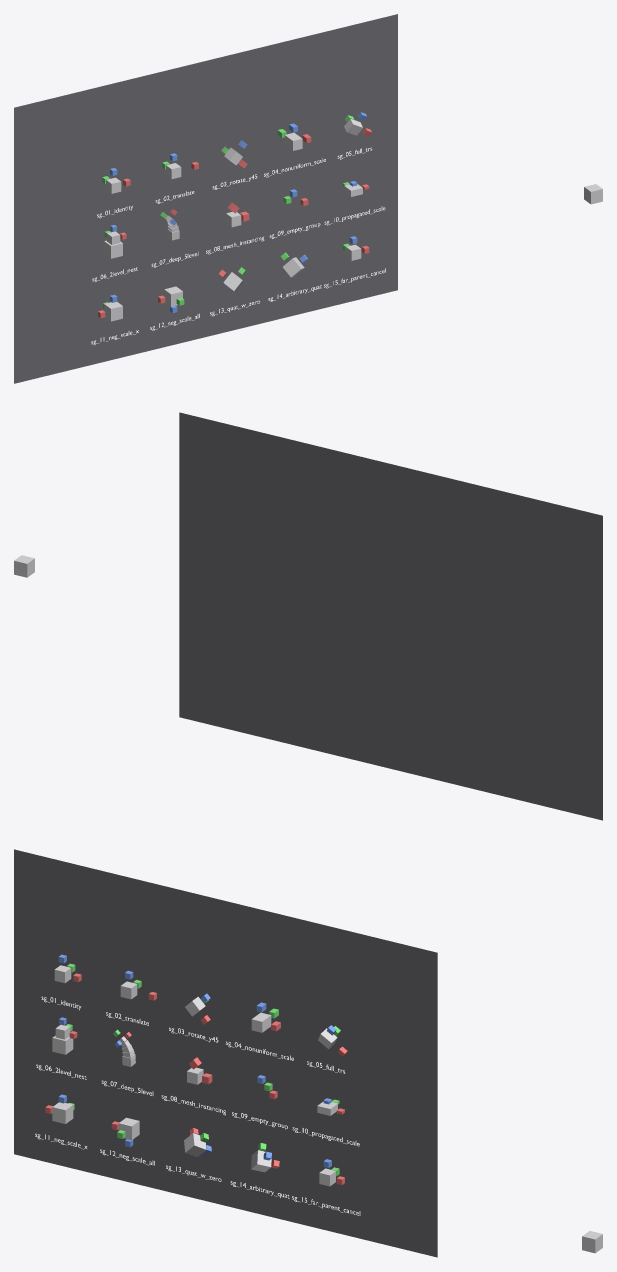
Rendered from grid_scenegraph.glb.
3 renders of one model, top to bottom at view 1: azimuth 30°, elevation 25°; view 2: azimuth 150°, elevation 25°; view 3: azimuth 330°, elevation 25°, orthographic. The views are drawn at different scales.
Visible parts, largest first — view 1: backdrop_scenegraph; view 2: backdrop_scenegraph; view 3: backdrop_scenegraph.
Boxes of the visible parts, bbox=[...] form: backdrop_scenegraph: bbox=[14, 14, 397, 383]; backdrop_scenegraph: bbox=[179, 412, 602, 820]; backdrop_scenegraph: bbox=[14, 849, 437, 1257].
Size of the model in its own units: 23.25 by 11 by 2.6.
